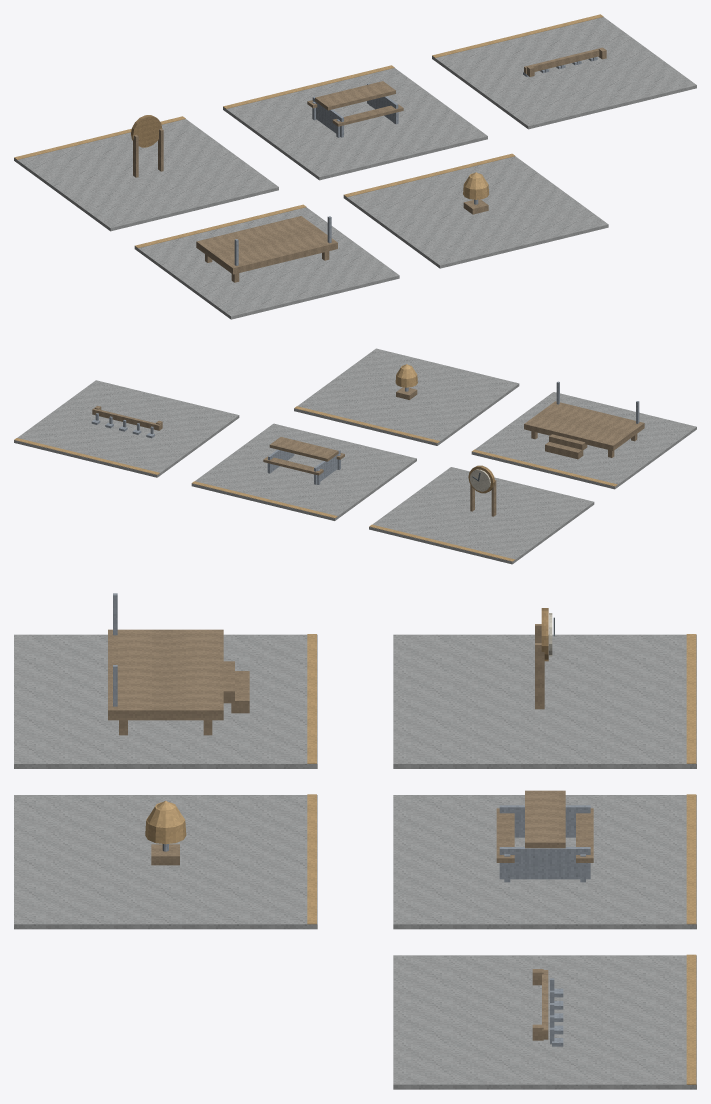
Rendered from level_blockout_kit_college_p04.glb.
3 renders of one model, top to bottom at view 1: azimuth 30°, elevation 25°; view 2: azimuth 150°, elevation 25°; view 3: azimuth 270°, elevation 25°, orthographic. The views are drawn at different scales.
Visible parts, largest first — view 1: level_blockout_kit_college_p04; view 2: level_blockout_kit_college_p04; view 3: level_blockout_kit_college_p04.
Boxes of the visible parts, x1,y1,x2,y2 form: level_blockout_kit_college_p04: (14,14,696,319); level_blockout_kit_college_p04: (14,348,696,564); level_blockout_kit_college_p04: (14,593,696,1089).
Bounding box in the file's own units: 19.65 × 1.9 × 12.6.
Materials: 7 (7 with a texture image).
